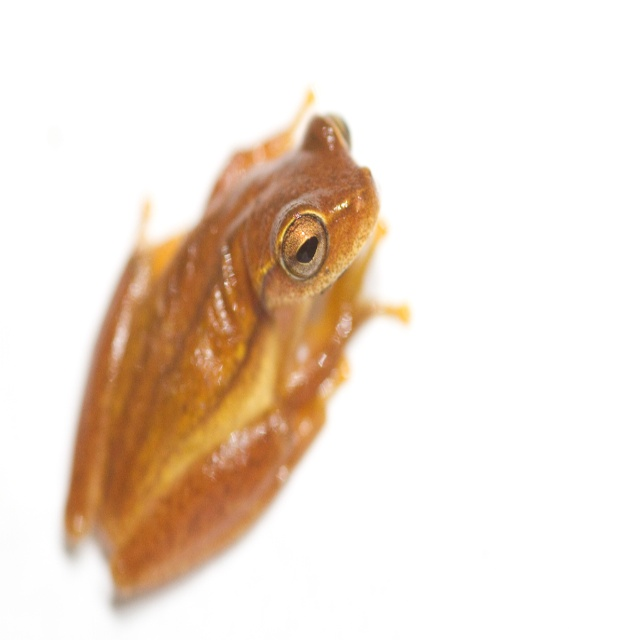Frog: (68, 93, 411, 608)
